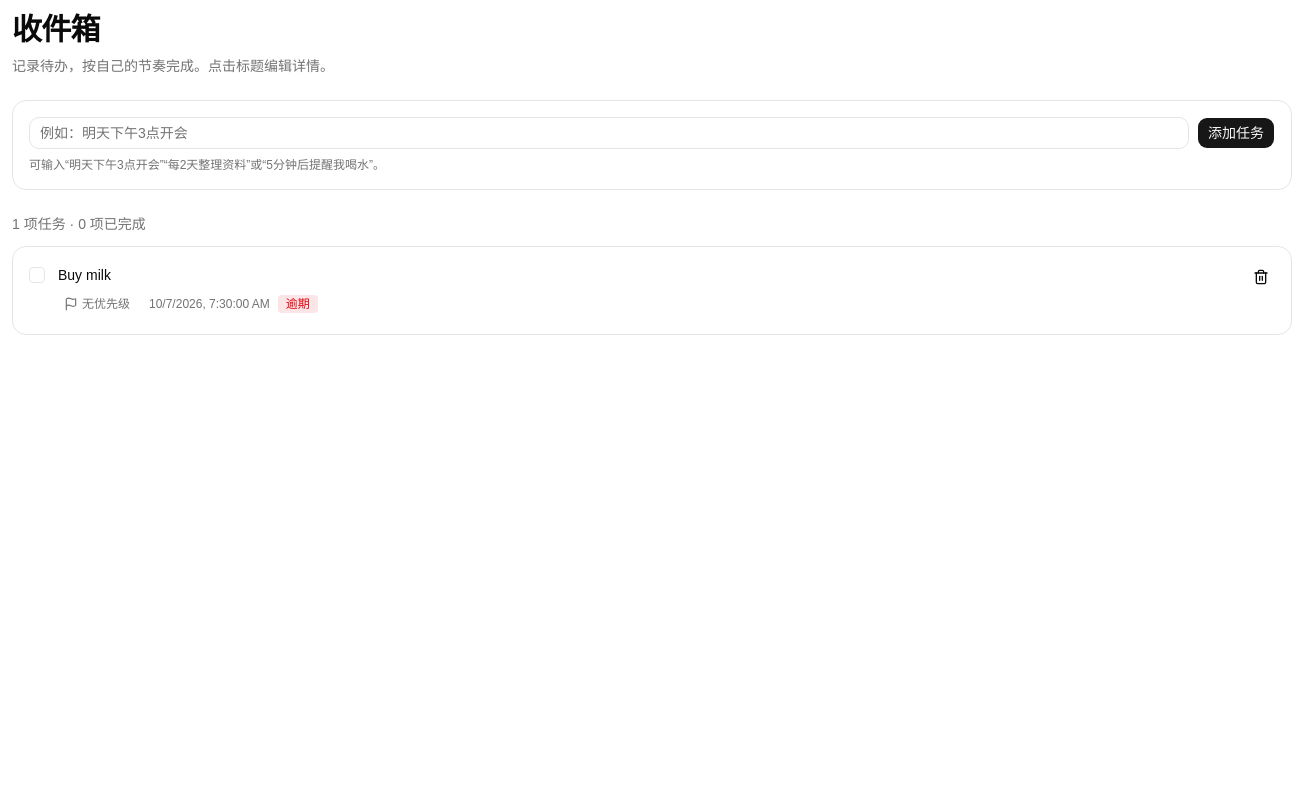
Test: shows the task time as text and opens details instead of a native picker
Click the text "10/7/2026, 7:30:00 AM".
click(209, 304)  # box [149, 297, 270, 311]
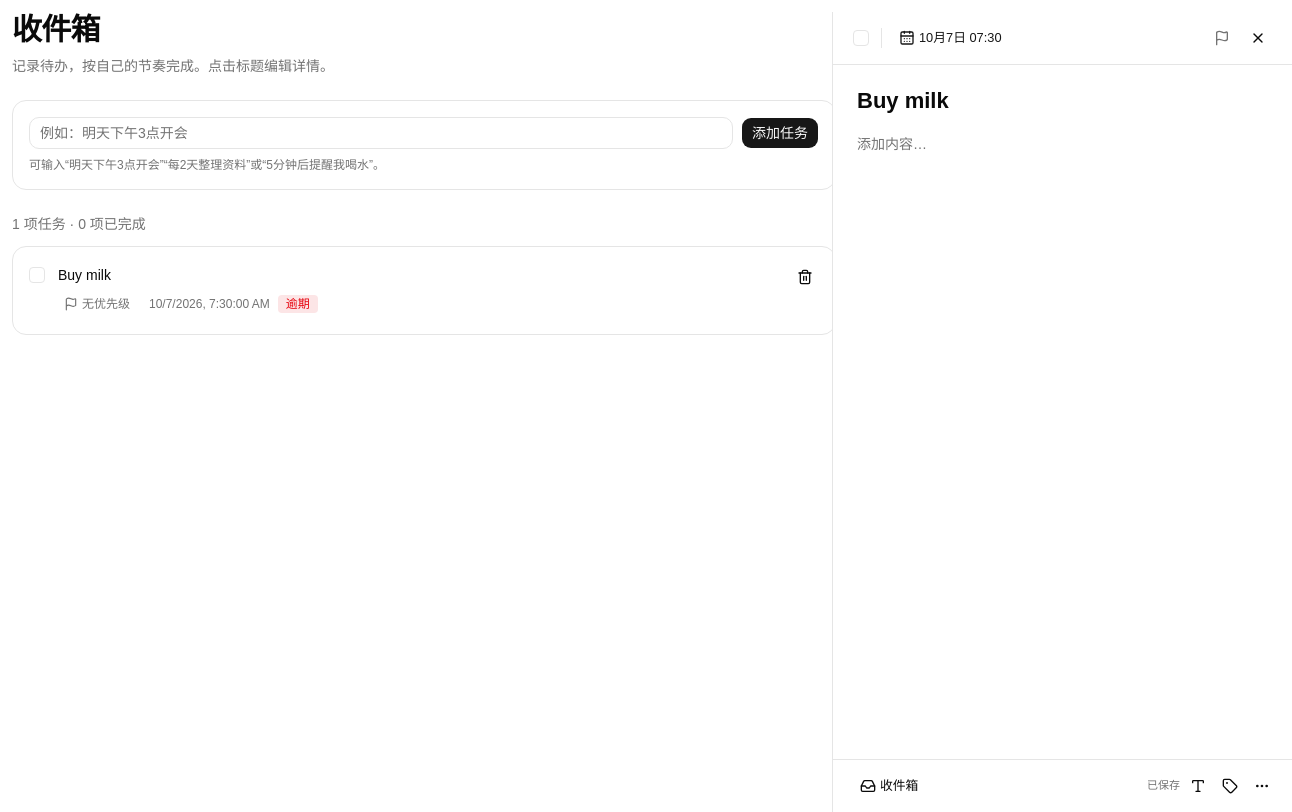
Expected: the text box named "任务标题" is shown, [857, 85, 1268, 117]
